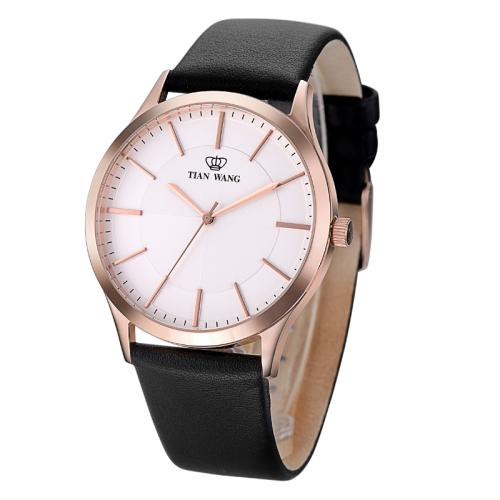watch: (79, 6, 384, 484)
